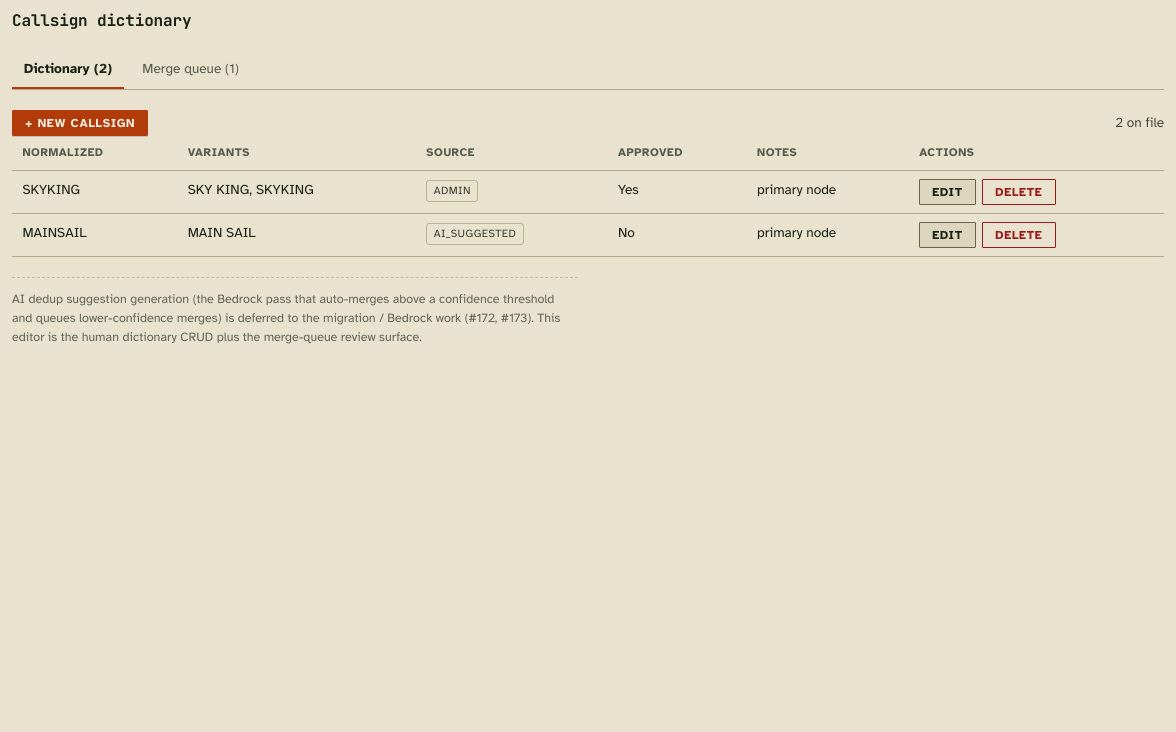
it: CallsignEditor — dictionary tab › opens the create form on + New
Expected: the table with test id "cs-table" is shown, [12, 136, 1164, 256]
Click the button "+ New callsign". click: (80, 123)
box: [12, 110, 148, 136]
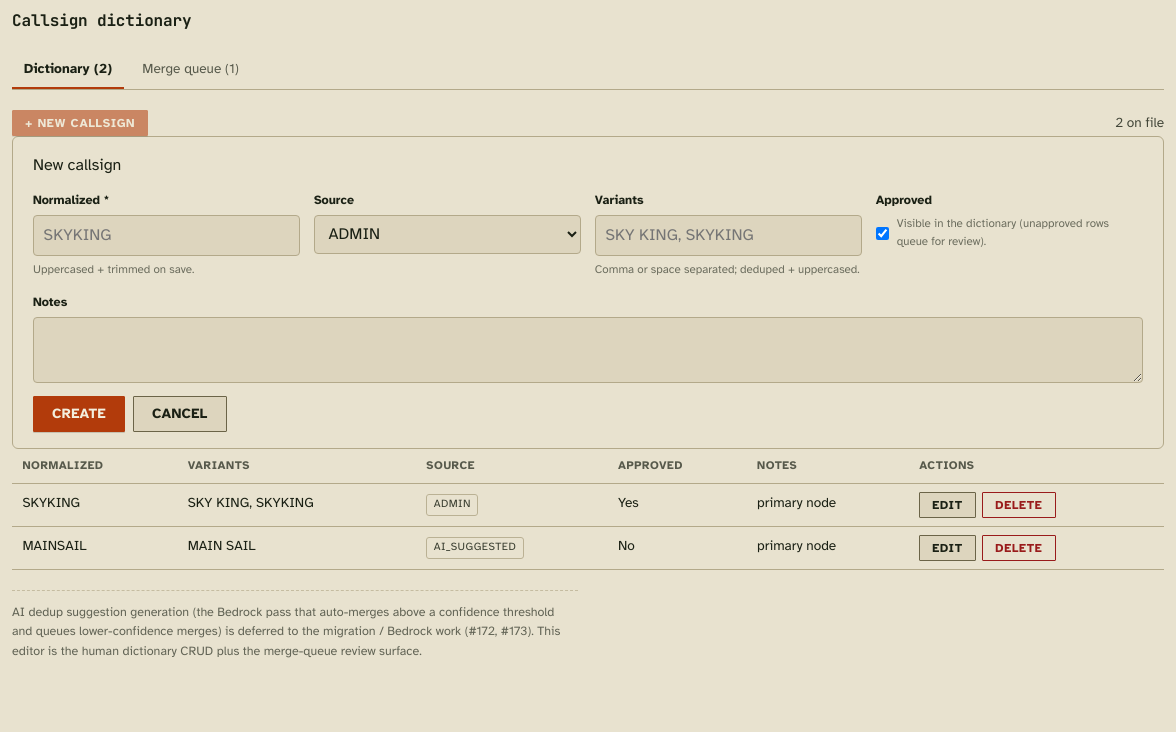
Expected: the form named "Create callsign" is shown, [12, 136, 1164, 449]
